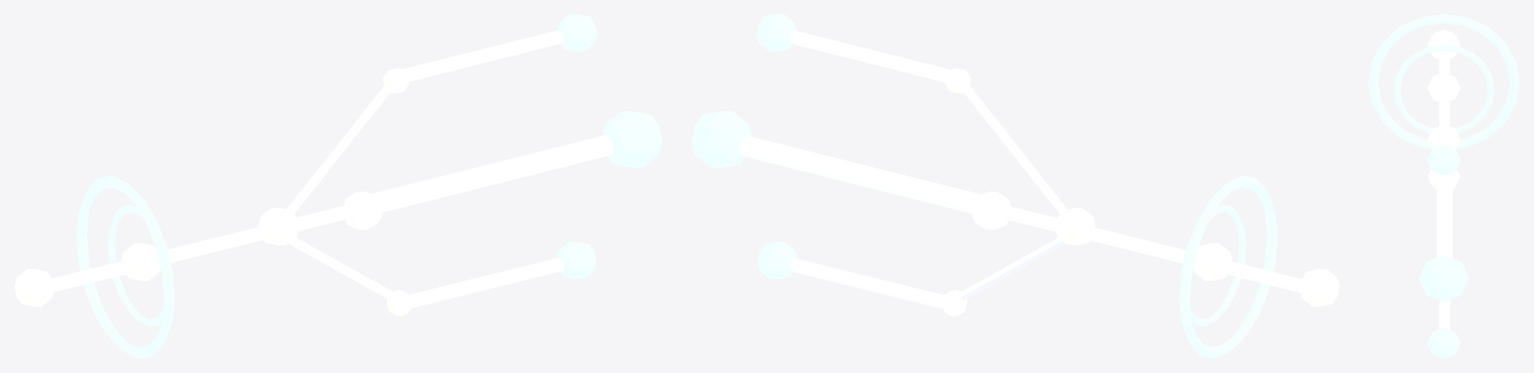
The model's file is neuron3.glb.
3 views of the same model, side by side, from view 1: azimuth 30°, elevation 25°; view 2: azimuth 150°, elevation 25°; view 3: azimuth 270°, elevation 25° (orthographic). The views are drawn at different scales.
Parts seen in each view (by area): view 1: n3; view 2: n3; view 3: n3.
Boxes of the visible parts, box(x1,y1,x2,y2) form: n3: box(14, 14, 662, 358); n3: box(691, 14, 1339, 358); n3: box(1368, 14, 1519, 358).
Size of what is drawn, in the model's own units: 6.08 by 2.4 by 1.54.
Materials: 1 (1 with a texture image).
